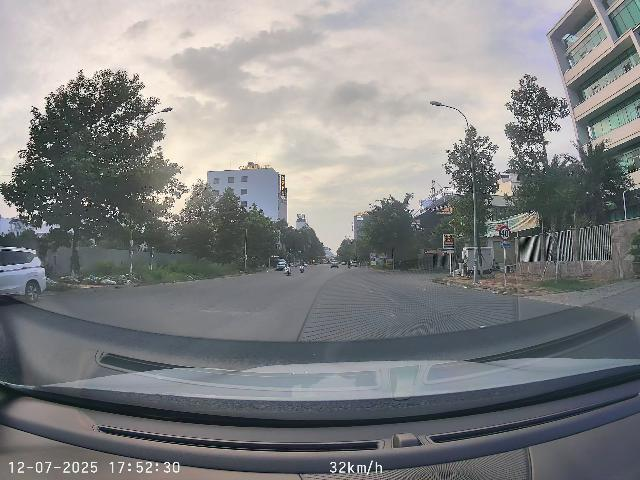127-toc-do-toi-da-40: (499, 226, 511, 241)
